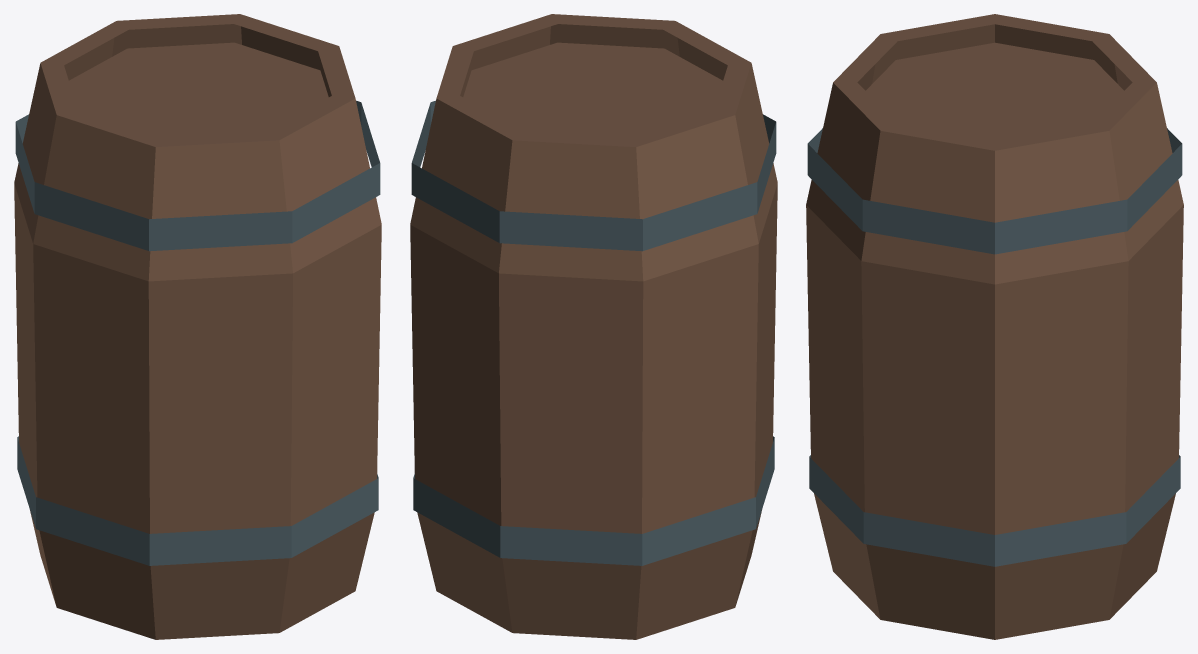
The model's file is ENV_Barrel_A_LOD1.glb.
The picture shows the model from 3 angles, left to right: view 1: azimuth 30°, elevation 25°; view 2: azimuth 150°, elevation 25°; view 3: azimuth 270°, elevation 25°; orthographic projection.
Parts seen in each view (by area): view 1: ENV_Barrel_A_LOD1_staves_wood, ENV_Barrel_A_LOD1_staves_woodDark, ENV_Barrel_A_LOD1_hoops_iron; view 2: ENV_Barrel_A_LOD1_staves_wood, ENV_Barrel_A_LOD1_staves_woodDark, ENV_Barrel_A_LOD1_hoops_iron; view 3: ENV_Barrel_A_LOD1_staves_wood, ENV_Barrel_A_LOD1_staves_woodDark, ENV_Barrel_A_LOD1_hoops_iron.
Boxes of the visible parts, bbox=[...] form: ENV_Barrel_A_LOD1_staves_wood: bbox=[14, 24, 381, 639]; ENV_Barrel_A_LOD1_staves_woodDark: bbox=[40, 14, 355, 146]; ENV_Barrel_A_LOD1_hoops_iron: bbox=[15, 100, 380, 565]; ENV_Barrel_A_LOD1_staves_wood: bbox=[410, 24, 777, 639]; ENV_Barrel_A_LOD1_staves_woodDark: bbox=[436, 14, 751, 146]; ENV_Barrel_A_LOD1_hoops_iron: bbox=[411, 100, 776, 565]; ENV_Barrel_A_LOD1_staves_wood: bbox=[806, 24, 1183, 639]; ENV_Barrel_A_LOD1_staves_woodDark: bbox=[833, 14, 1156, 150]; ENV_Barrel_A_LOD1_hoops_iron: bbox=[807, 128, 1182, 566].
Size of the model in its own units: 0.7 by 1 by 0.7.
